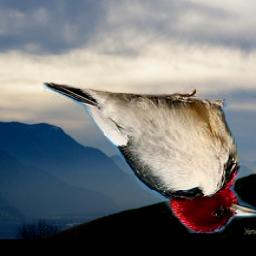Woodpecker: (44, 83, 256, 233)
